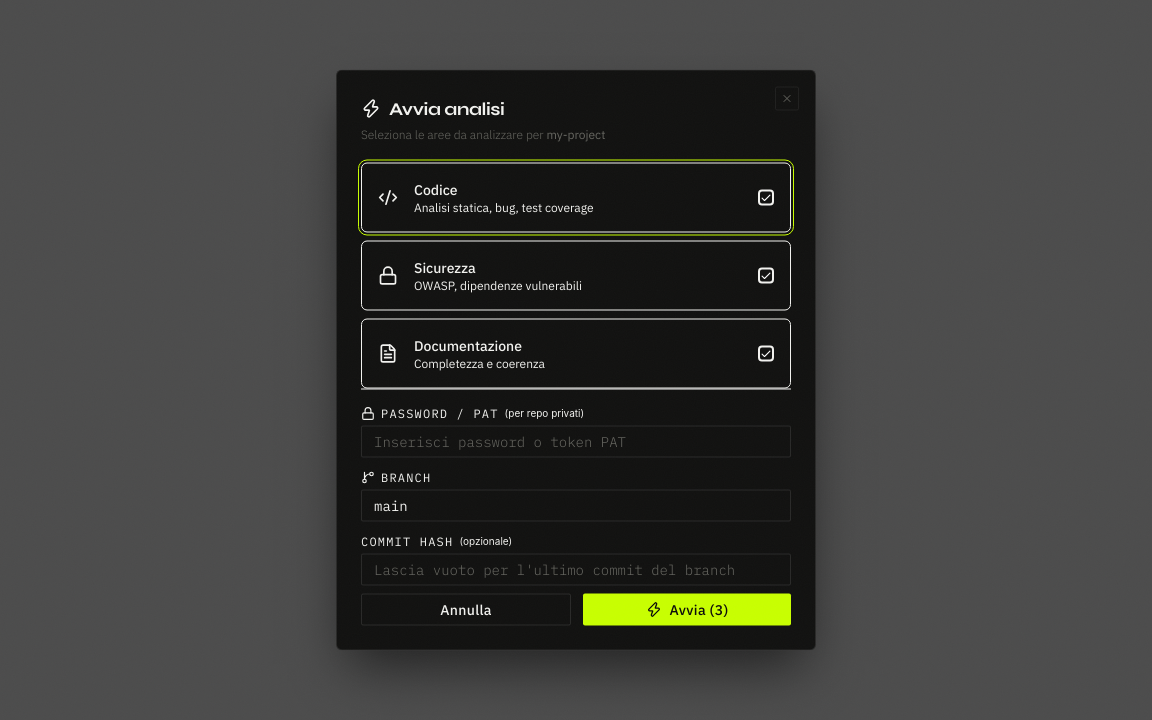
Test case: AnalysisOptionsModal › shows error for invalid branch name
# Branch with spaces is invalid
Type "invalid branch" into the field with placeholder "main" at [576, 506], box [361,490,791,522]
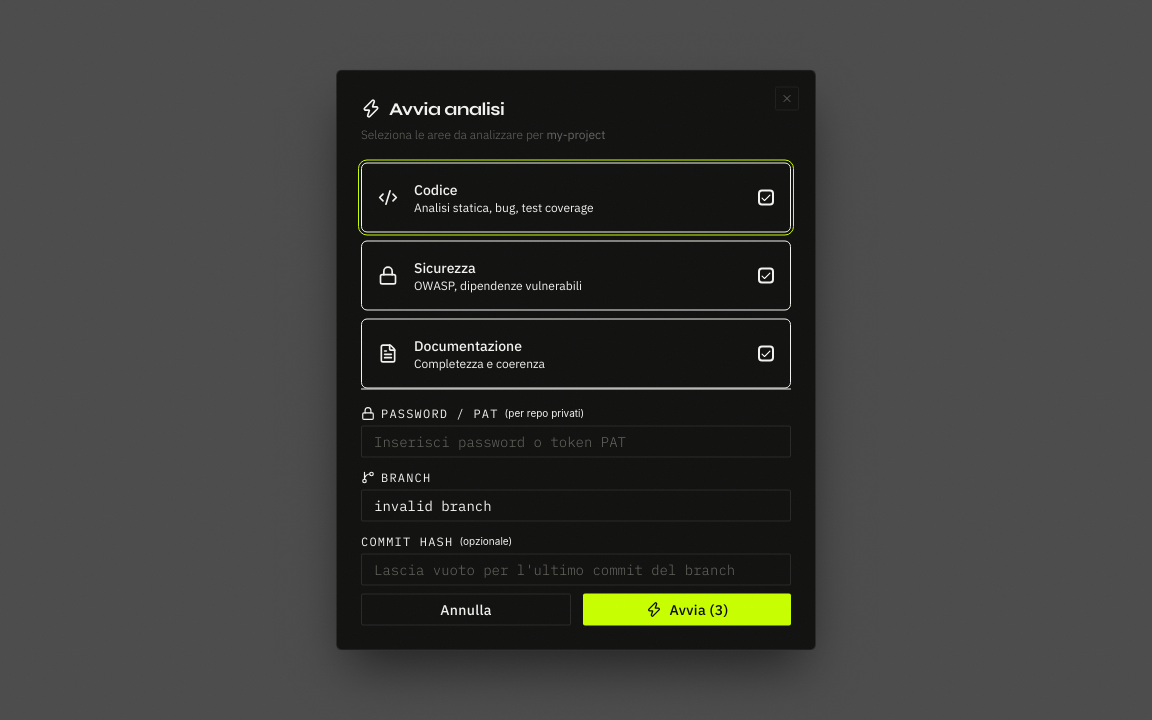
Click the button "Avvia (3)" at [687, 610], box [583,594,791,626]
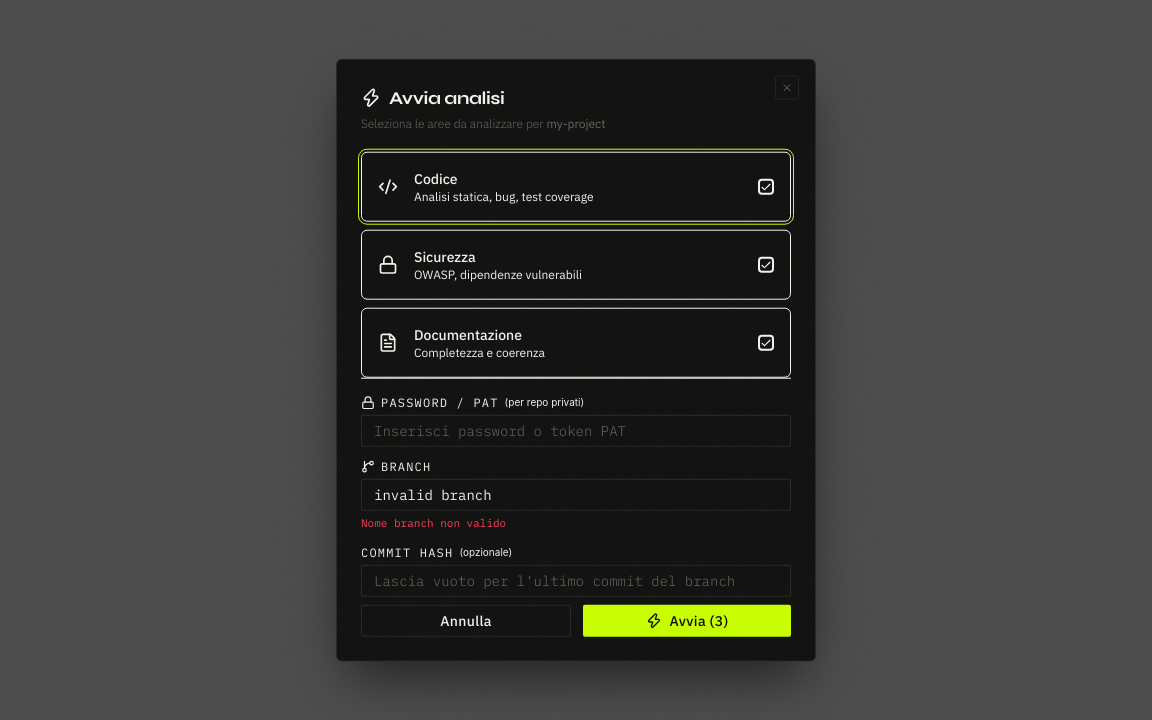
Expected: the text "Nome branch non valido" is shown, [361,516,506,530]
